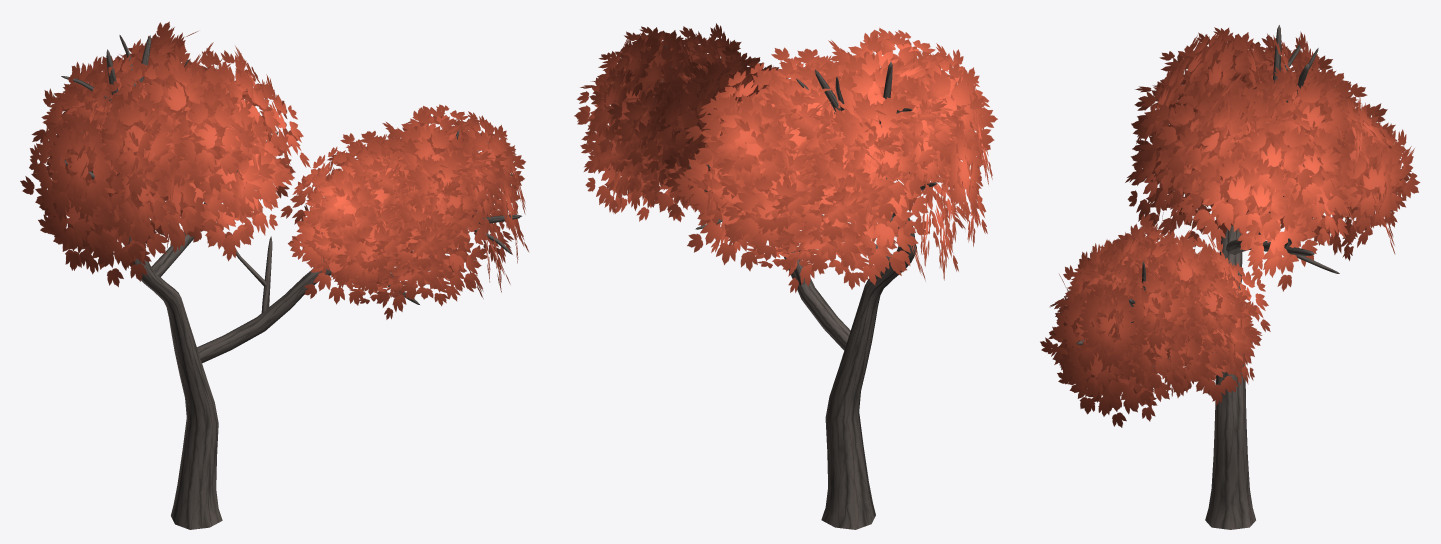
Rendered from maple_1.glb.
3 renders of one model, left to right at view 1: azimuth 30°, elevation 25°; view 2: azimuth 150°, elevation 25°; view 3: azimuth 270°, elevation 25°, orthographic. The views are drawn at different scales.
Size of the model in its own units: 6.23 by 6.64 by 4.9.
Materials: 2 (2 with a texture image).
